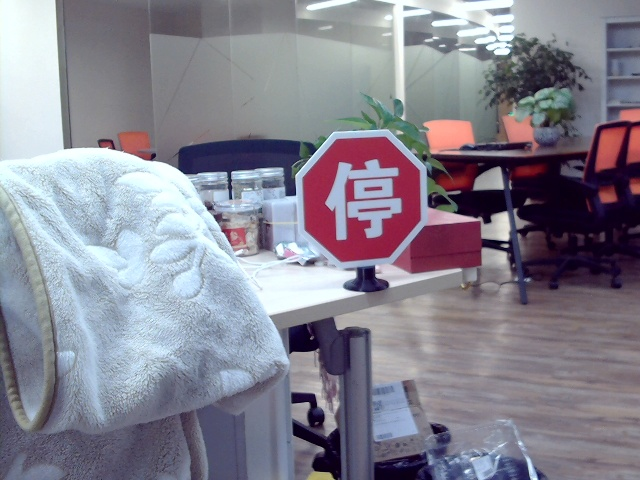stop: (321, 155, 405, 240)
